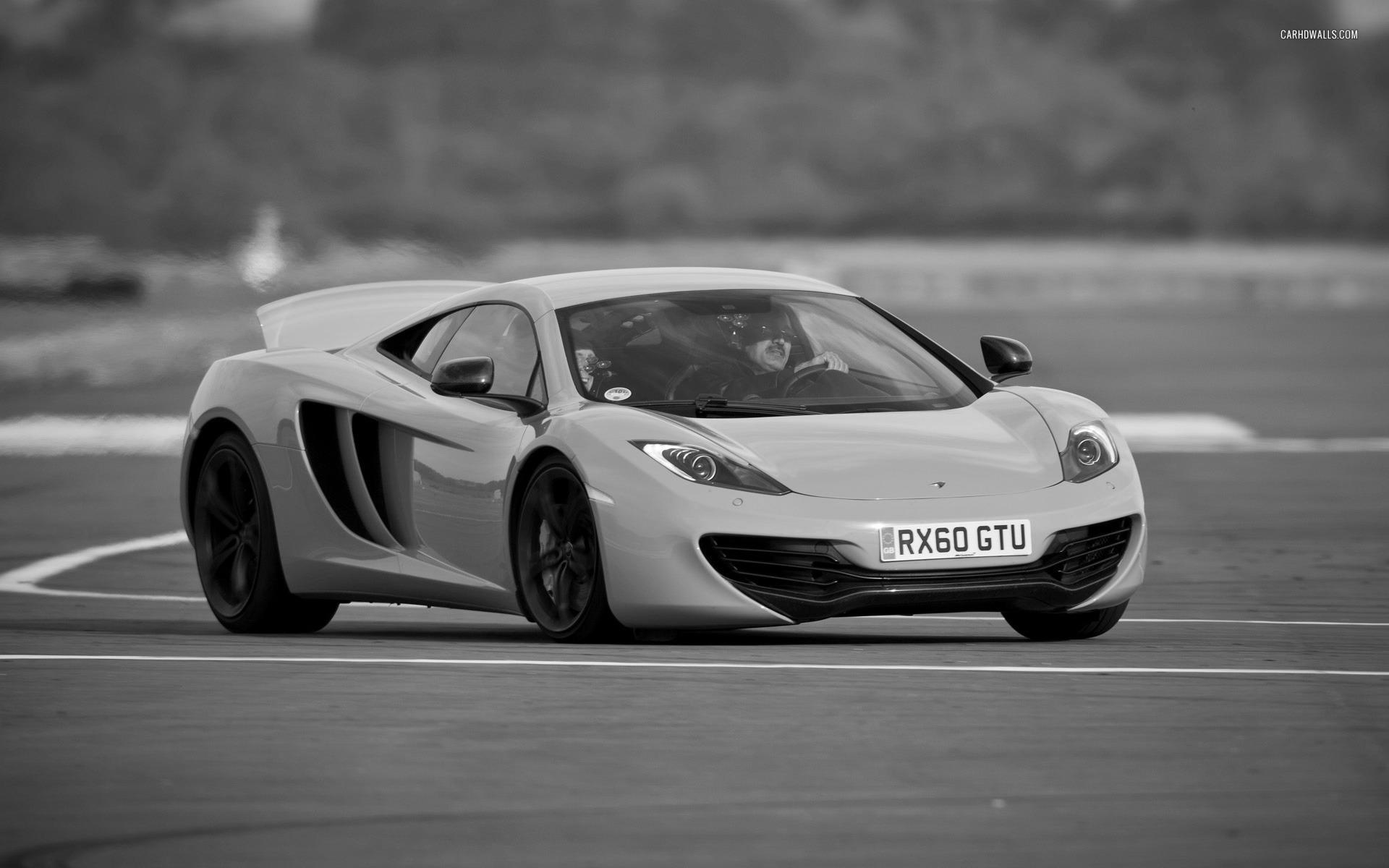car: (174, 259, 1155, 650)
